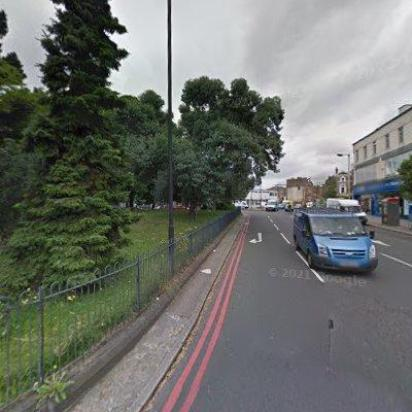moving-car: (284, 204, 294, 212)
moving-heavy-truck: (236, 200, 250, 210)
moving-light-truck: (292, 206, 374, 276), (264, 198, 280, 213), (280, 200, 292, 210), (294, 200, 306, 210)
stationary-light-truck-onstreet: (326, 198, 368, 226)
